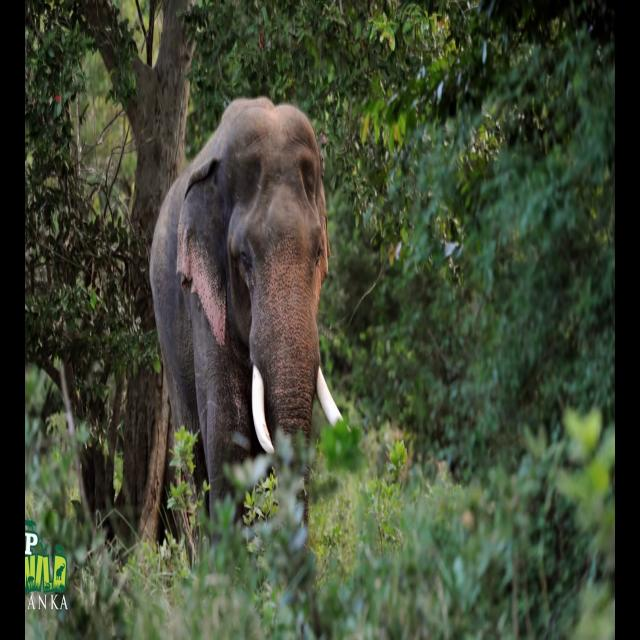Elephant: (149, 95, 344, 561)
